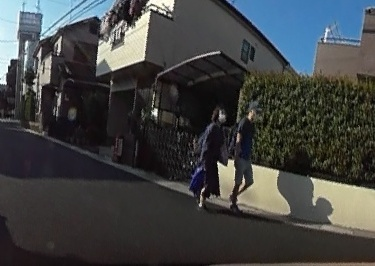person: (194, 103, 225, 206), (227, 106, 258, 207)
